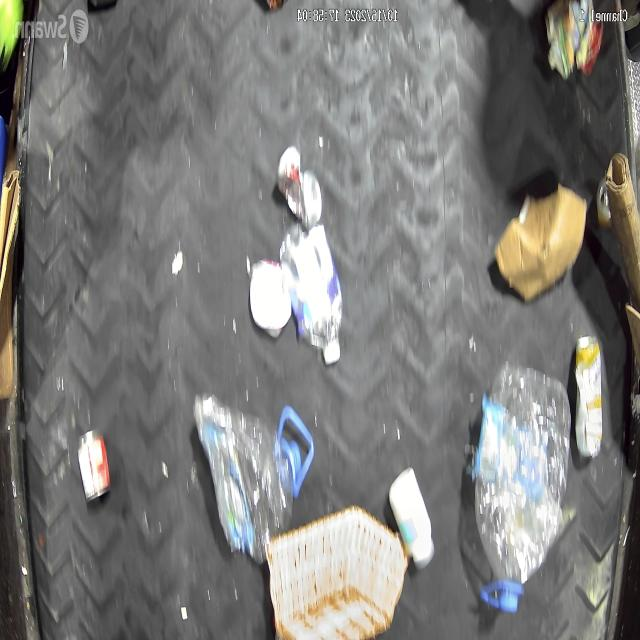can: (276, 145, 322, 228), (574, 336, 603, 460), (76, 426, 112, 506), (596, 176, 612, 228)
non_white_jug: (280, 222, 342, 362)
plastic_bottle: (473, 362, 570, 614), (192, 392, 314, 564)
